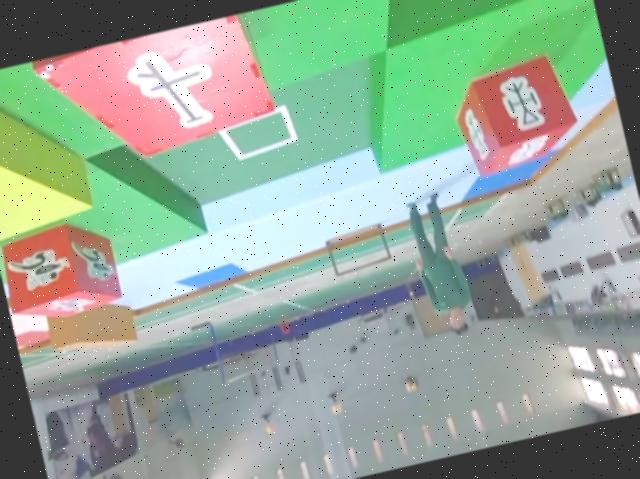R1: (0, 215, 125, 328)
R2 Real: (32, 10, 278, 177), (446, 48, 585, 180)
